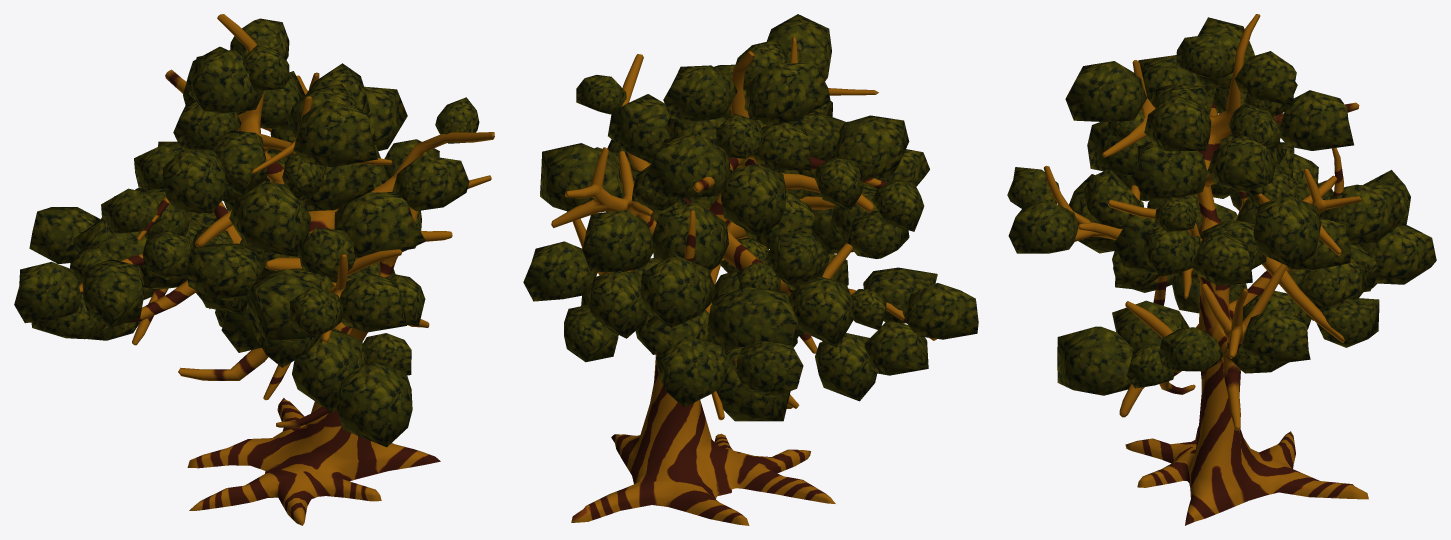
Rendered from tunnel_tree_F_1.fbx.
3 views of the same model, side by side, from view 1: azimuth 30°, elevation 25°; view 2: azimuth 150°, elevation 25°; view 3: azimuth 270°, elevation 25° (orthographic). The views are drawn at different scales.
Visible parts, largest first — view 1: tunnel_Tree_F_leaf_1, tunnel_Tree_F_trunk_F_1; view 2: tunnel_Tree_F_leaf_1, tunnel_Tree_F_trunk_F_1; view 3: tunnel_Tree_F_leaf_1, tunnel_Tree_F_trunk_F_1.
Part boxes in pixels (box(x1,y1,x2,y2)): tunnel_Tree_F_leaf_1: box(14, 18, 479, 447); tunnel_Tree_F_trunk_F_1: box(79, 14, 494, 525); tunnel_Tree_F_leaf_1: box(523, 14, 978, 421); tunnel_Tree_F_trunk_F_1: box(551, 37, 936, 525); tunnel_Tree_F_leaf_1: box(1007, 17, 1436, 395); tunnel_Tree_F_trunk_F_1: box(1043, 14, 1368, 525).
Bounding box in the file's own units: 1338 × 1314 × 1189.
